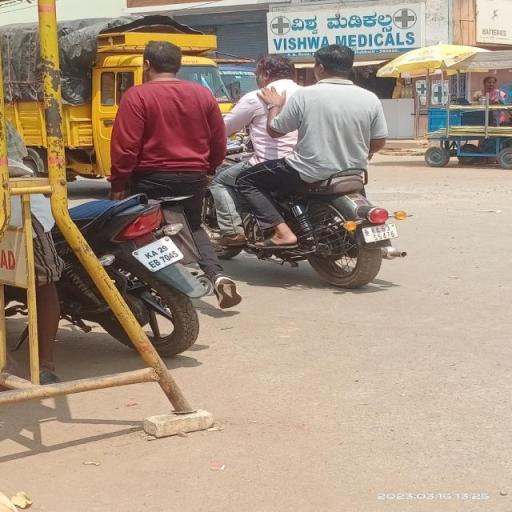bike: (205, 40, 409, 290)
numberplate: (357, 216, 403, 247)
withouthelmet: (314, 46, 352, 80), (258, 55, 296, 84)
